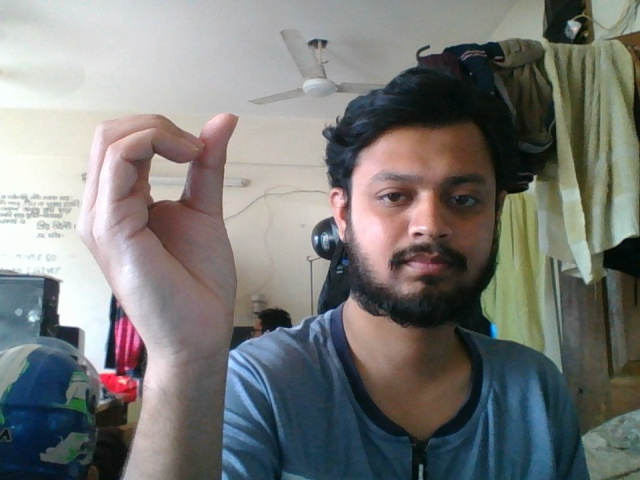ae: (76, 101, 265, 414)
